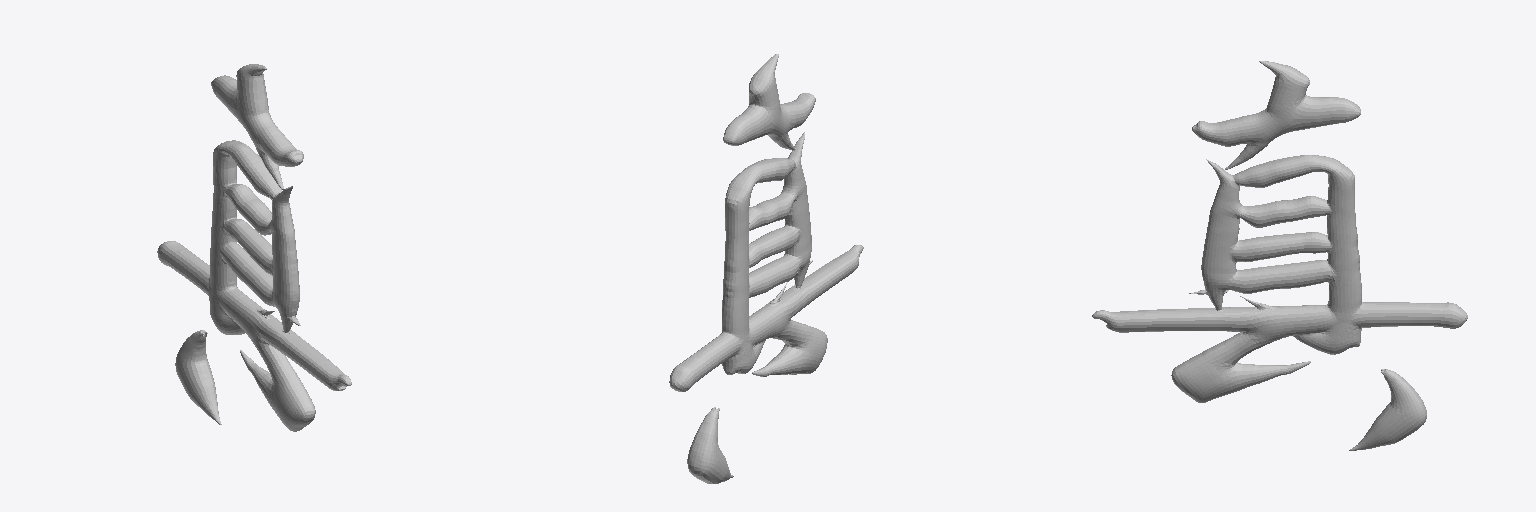
3 renders of one model, left to right at view 1: azimuth 30°, elevation 25°; view 2: azimuth 150°, elevation 25°; view 3: azimuth 270°, elevation 25°, orthographic.
Visible parts, largest first — view 1: tripo_node_e81a9c58-b583-40c5-be8b-2d18df10cb77; view 2: tripo_node_e81a9c58-b583-40c5-be8b-2d18df10cb77; view 3: tripo_node_e81a9c58-b583-40c5-be8b-2d18df10cb77.
Boxes of the visible parts, x1=… form: tripo_node_e81a9c58-b583-40c5-be8b-2d18df10cb77: x1=157, y1=64, x2=351, y2=431; tripo_node_e81a9c58-b583-40c5-be8b-2d18df10cb77: x1=669, y1=54, x2=863, y2=483; tripo_node_e81a9c58-b583-40c5-be8b-2d18df10cb77: x1=1092, y1=61, x2=1467, y2=450.
Size of the model in its own units: 0.0713 by 0.9991 by 0.8708.